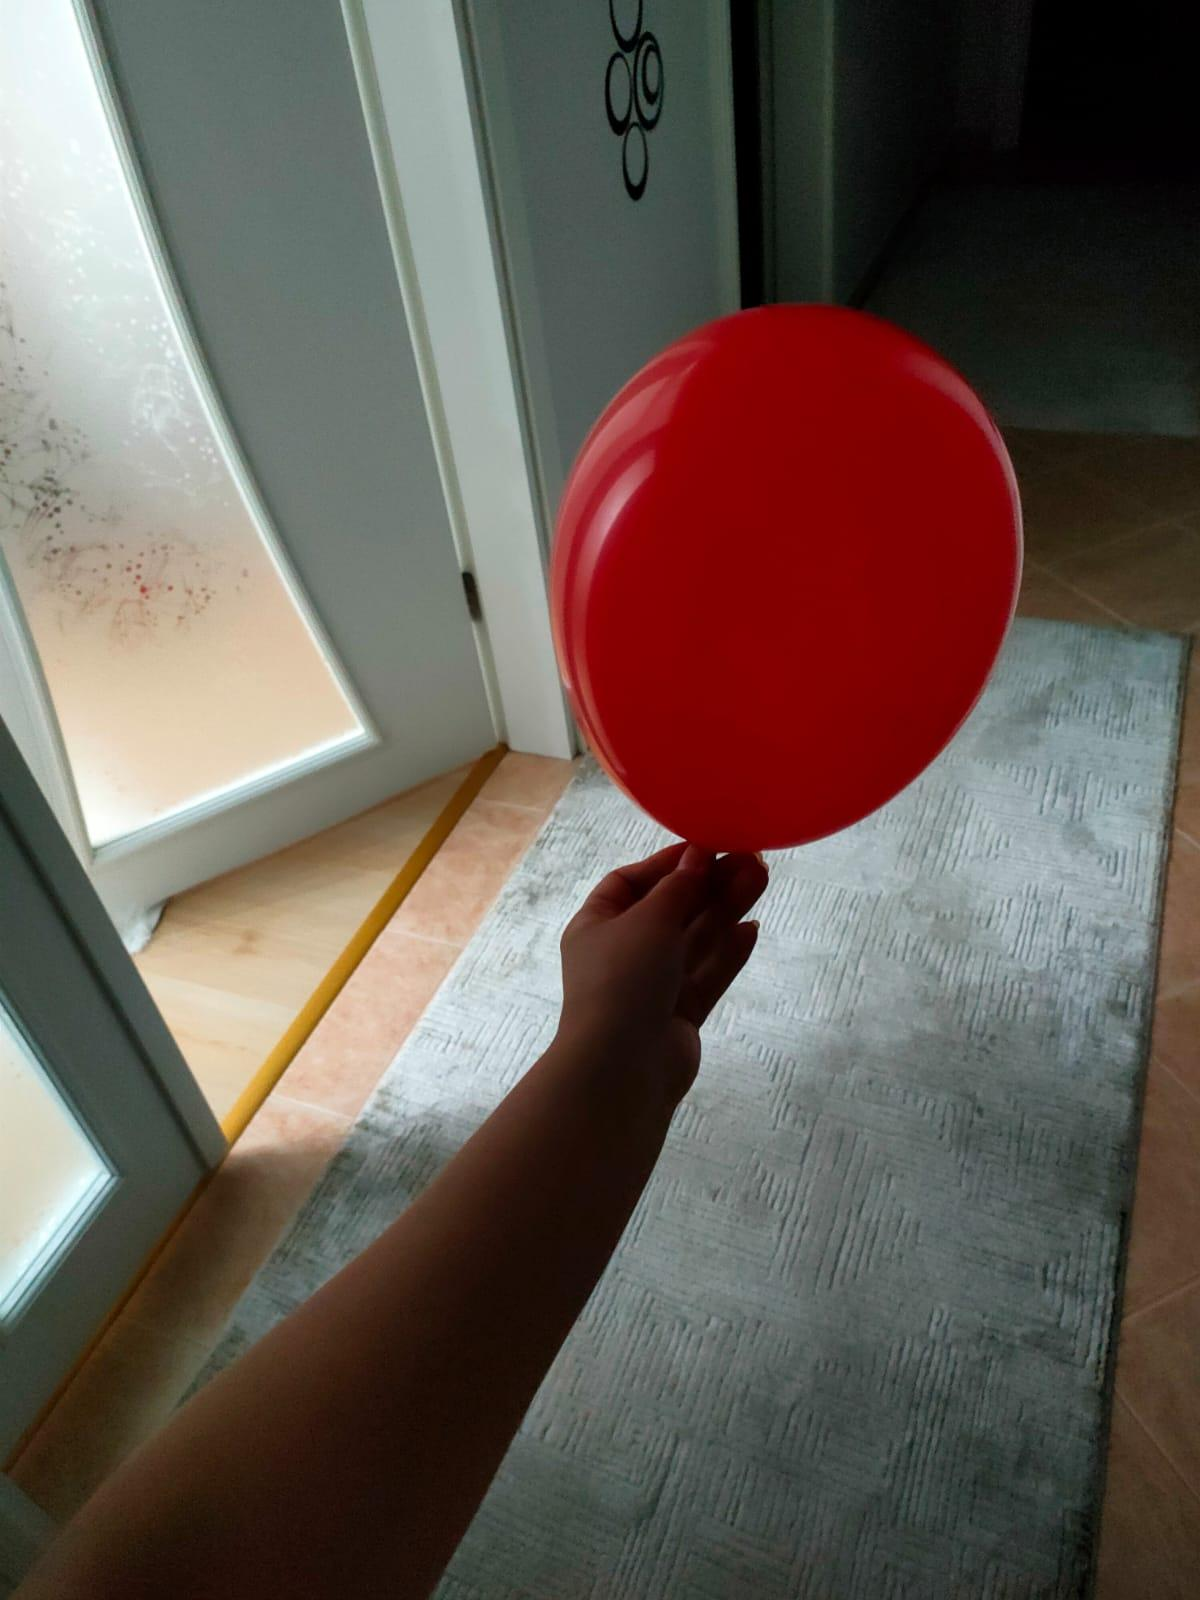red: (531, 277, 1047, 931)
